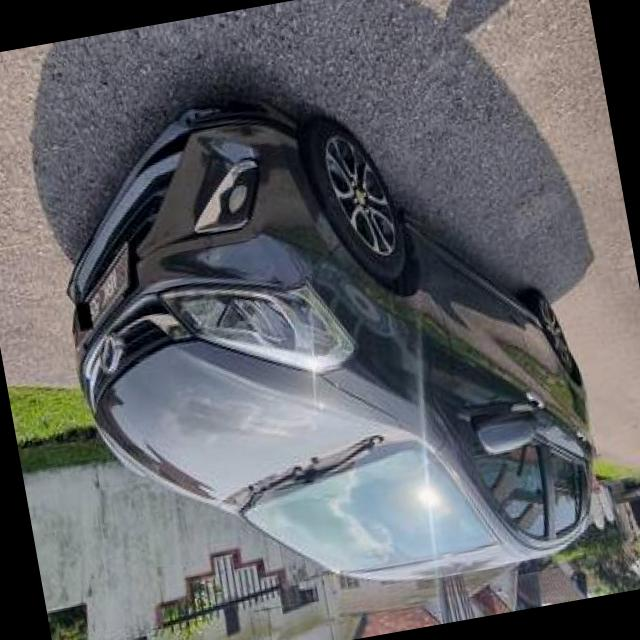PeroduaMyvi: (33, 46, 618, 640)
